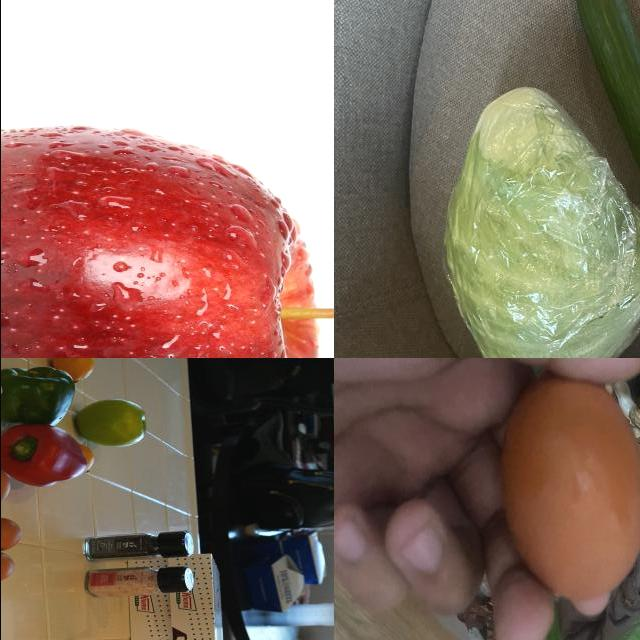bell_pepper: (1, 424, 82, 495), (78, 529, 196, 567), (1, 369, 78, 421)
cabbage: (435, 86, 640, 359)
egg: (499, 384, 640, 603), (1, 517, 25, 550), (1, 551, 16, 585), (1, 468, 13, 509)
